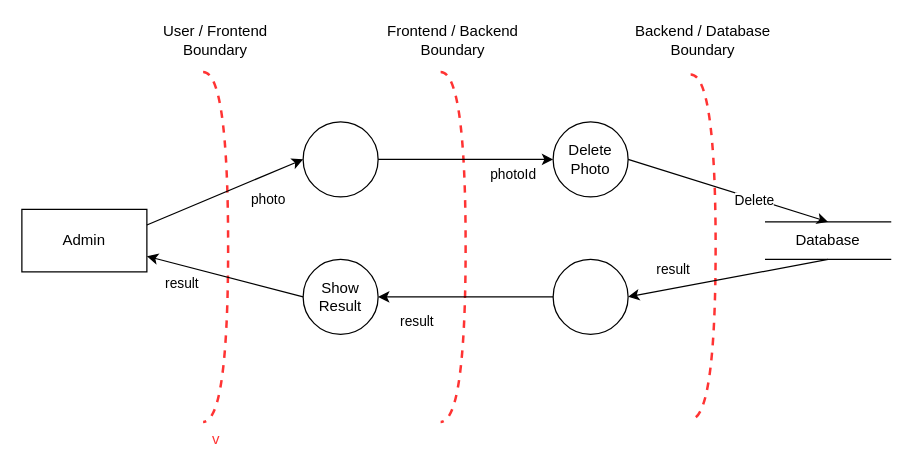
This 913x469 diagram has some shape labels left out. The shapes that lost their labels are listed below. From the top down, each one's centre as x and y in pixels, then its label:
At (x=340, y=159): "Send Request".
At (x=590, y=296): "Send Result".
